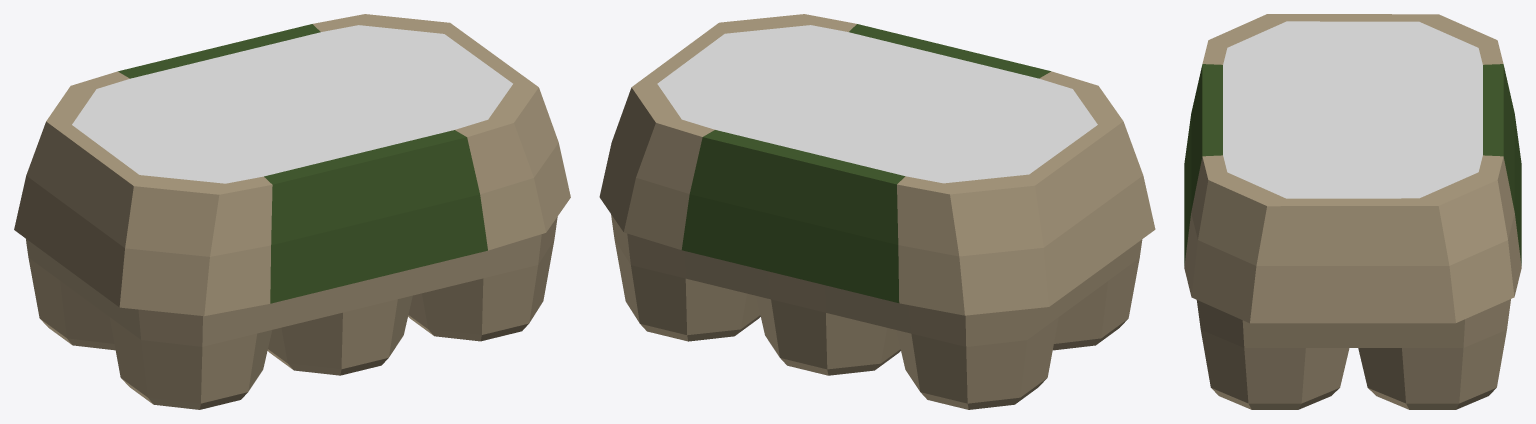
The model's file is Ma_Eggs.fbx.
The picture shows the model from 3 angles, left to right: view 1: azimuth 30°, elevation 25°; view 2: azimuth 150°, elevation 25°; view 3: azimuth 270°, elevation 25°; orthographic projection. The views are drawn at different scales.
Parts seen in each view (by area): view 1: Ma_Eggs; view 2: Ma_Eggs; view 3: Ma_Eggs.
Part boxes in pixels (left/top/right/bottom): Ma_Eggs: left=14, top=14, right=570, bottom=409; Ma_Eggs: left=599, top=14, right=1155, bottom=409; Ma_Eggs: left=1184, top=14, right=1521, bottom=409.
Size of the model in its own units: 126 by 84.04 by 58.74.
